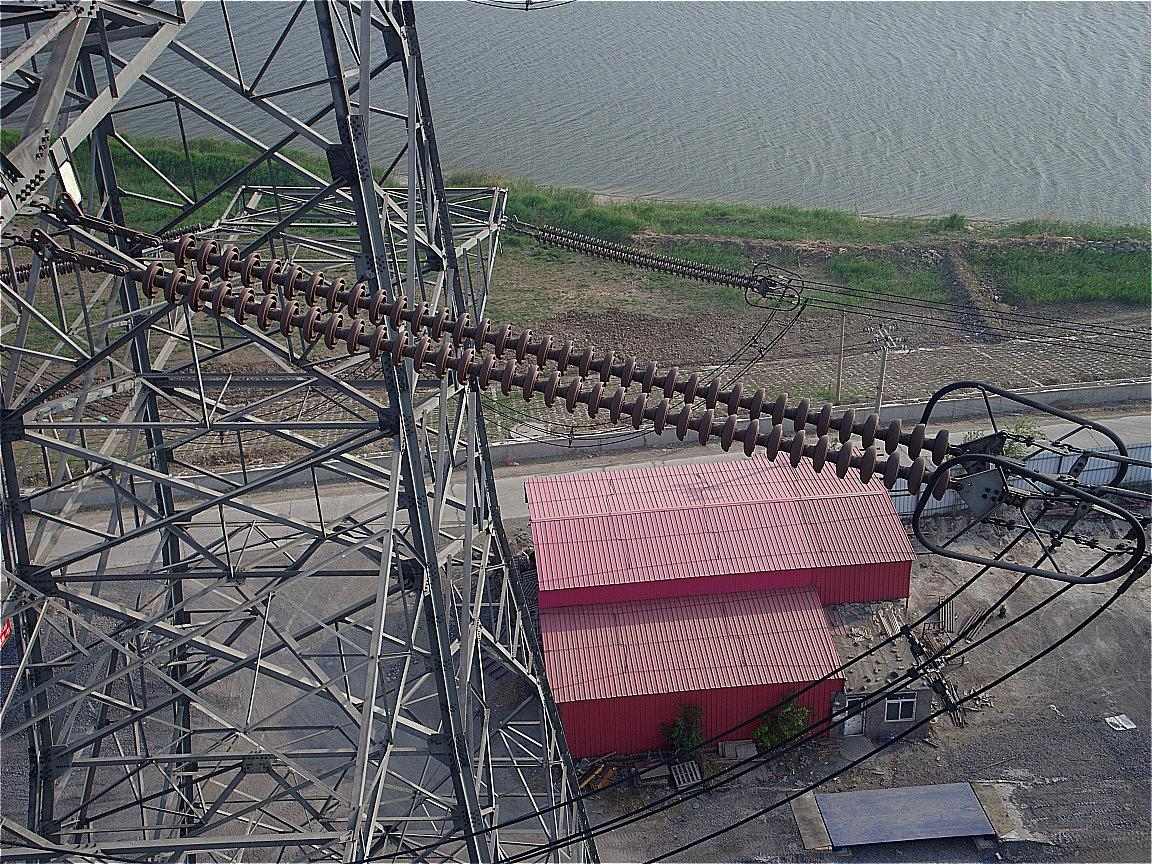insultor1: (142, 231, 951, 499)
insultor2: (535, 222, 758, 294)
